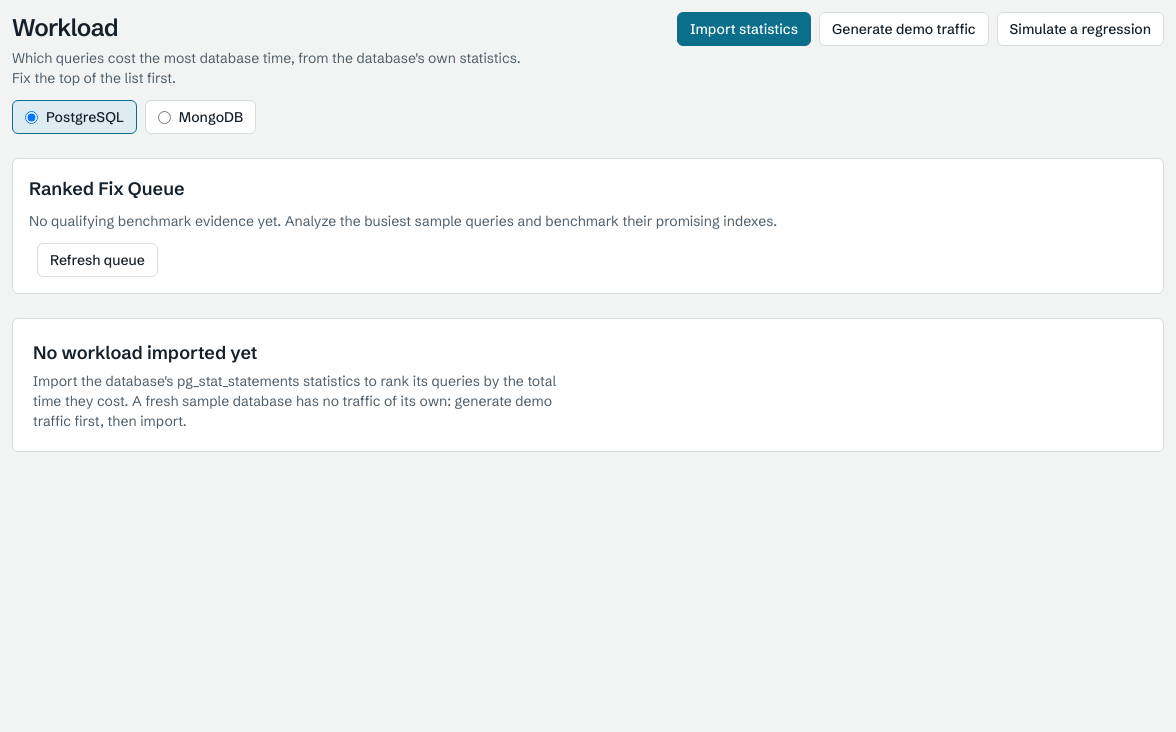
WorkloadDashboard › shows the server's message when the import fails and keeps the page usable
Click the button "Import statistics": (744, 29) x1=677 y1=12 x2=811 y2=46
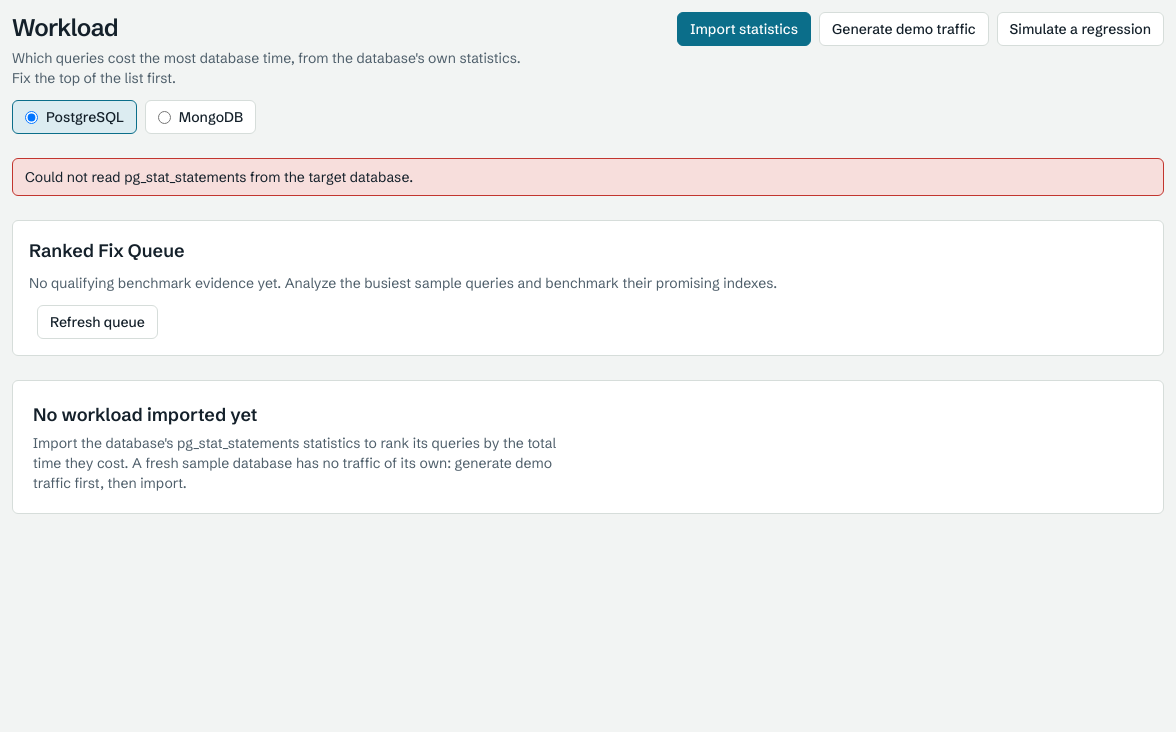
Check: the message shows "Could not read pg_stat_statements", box x1=25 y1=168 x2=413 y2=186
